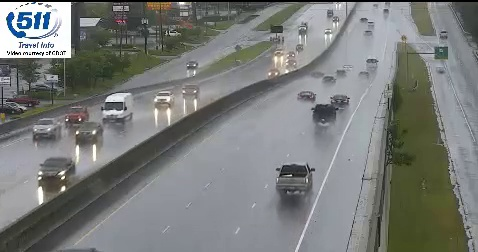car: (276, 163, 312, 192), (312, 103, 336, 122), (329, 94, 349, 108), (297, 91, 315, 102)
